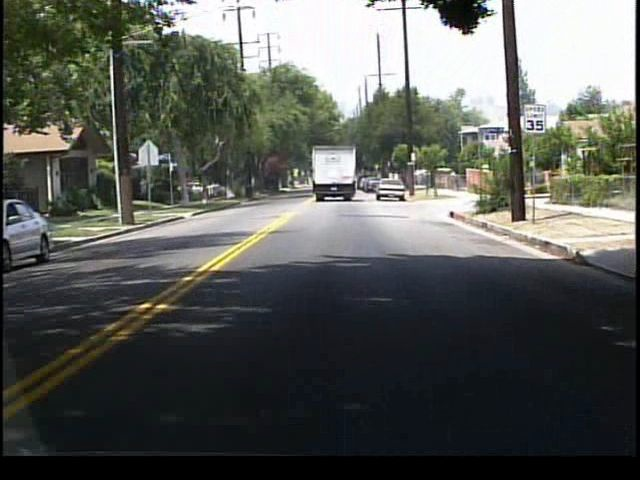person: (448, 167, 459, 190)
